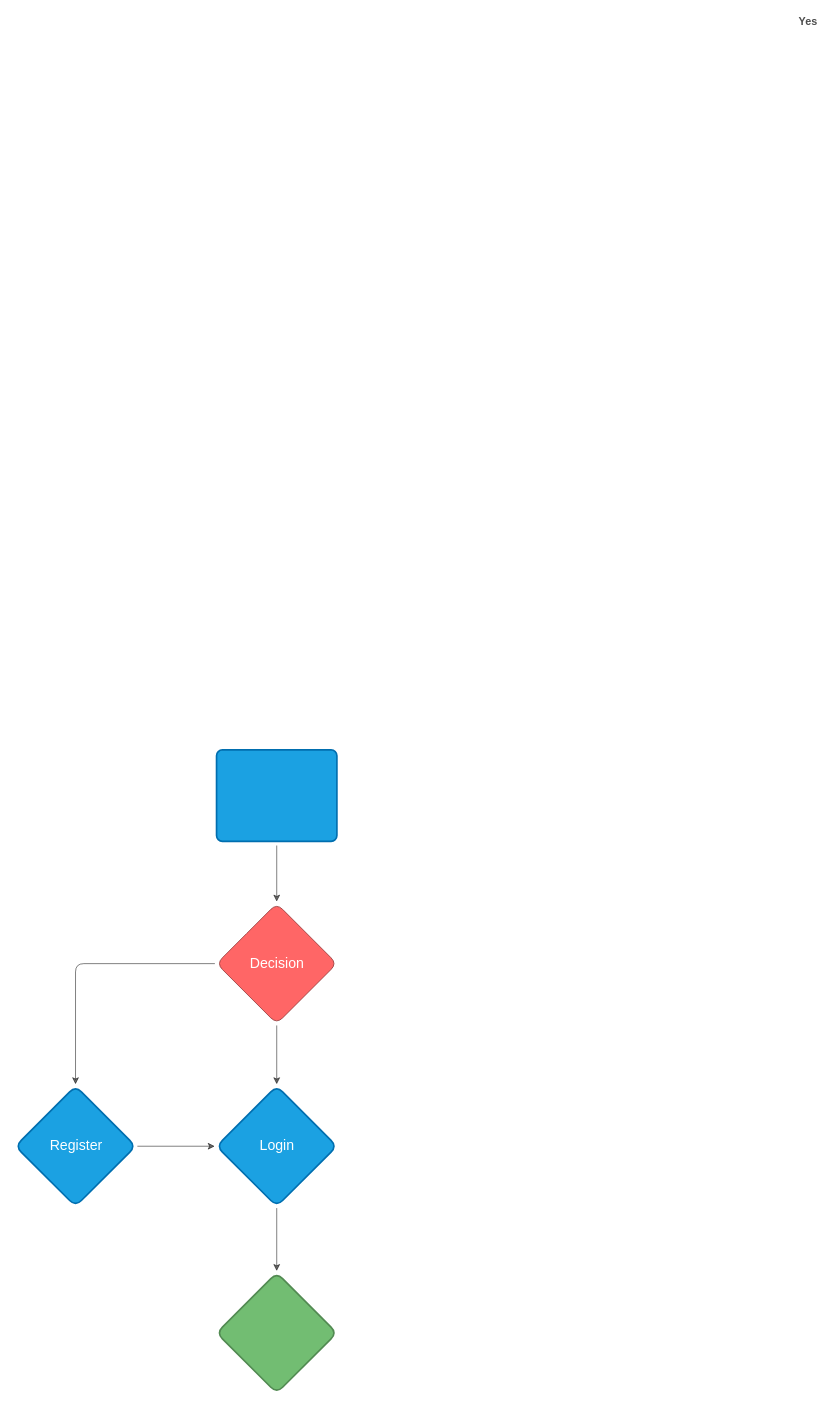
The diagram is 837 pixels wide and 1409 high, and some of its shapes have lost their labels. Here are the shapes that lost their labels. From the top down, the centre of each, then its label:
At [276,795]: "Opens app".
At [276,1333]: "Dashboard".
